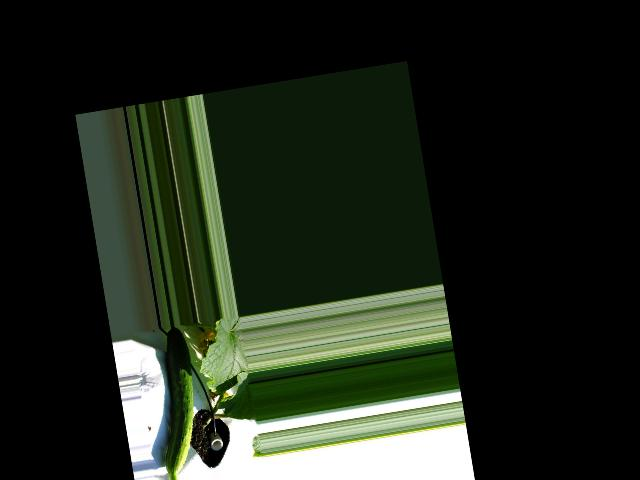cucumber: (143, 325, 208, 477)
